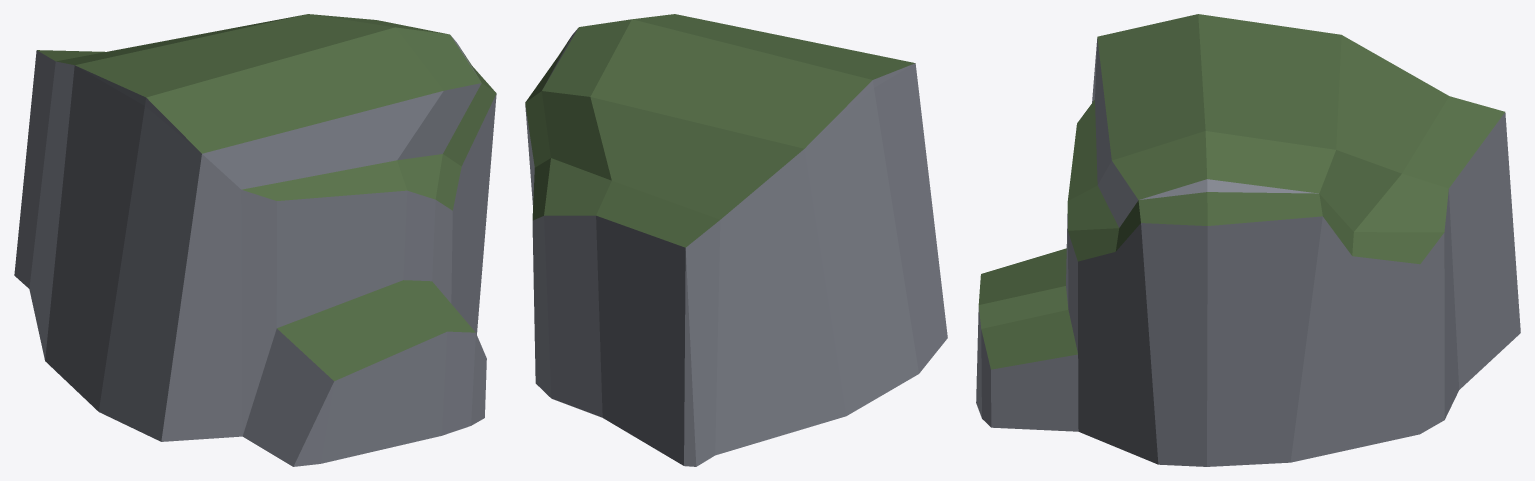
Rendered from rock_moss_6.glb.
3 renders of one model, left to right at view 1: azimuth 30°, elevation 25°; view 2: azimuth 150°, elevation 25°; view 3: azimuth 270°, elevation 25°, orthographic. The views are drawn at different scales.
Parts seen in each view (by area): view 1: Rock_Moss_6; view 2: Rock_Moss_6; view 3: Rock_Moss_6.
Part boxes in pixels (box(x1,y1,x2,y2)): Rock_Moss_6: box(14, 14, 496, 466); Rock_Moss_6: box(525, 14, 947, 466); Rock_Moss_6: box(976, 14, 1520, 466).
Bounding box in the file's own units: 0.9121 × 0.7078 × 1.14.
